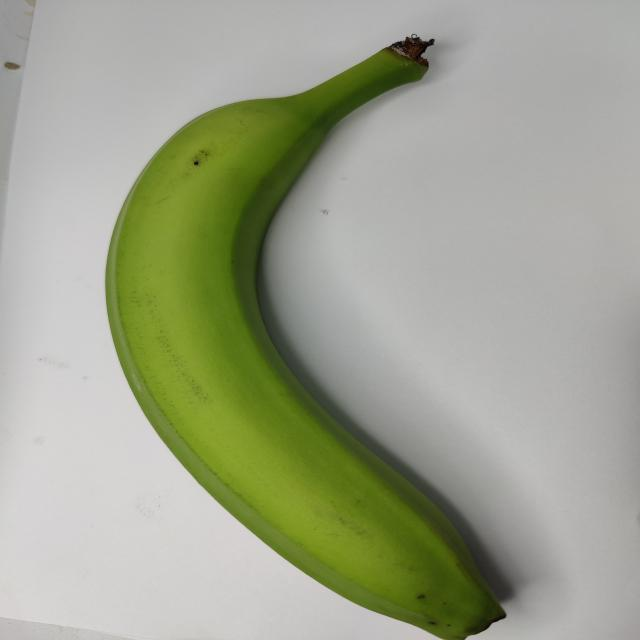raw: (55, 29, 595, 639)
